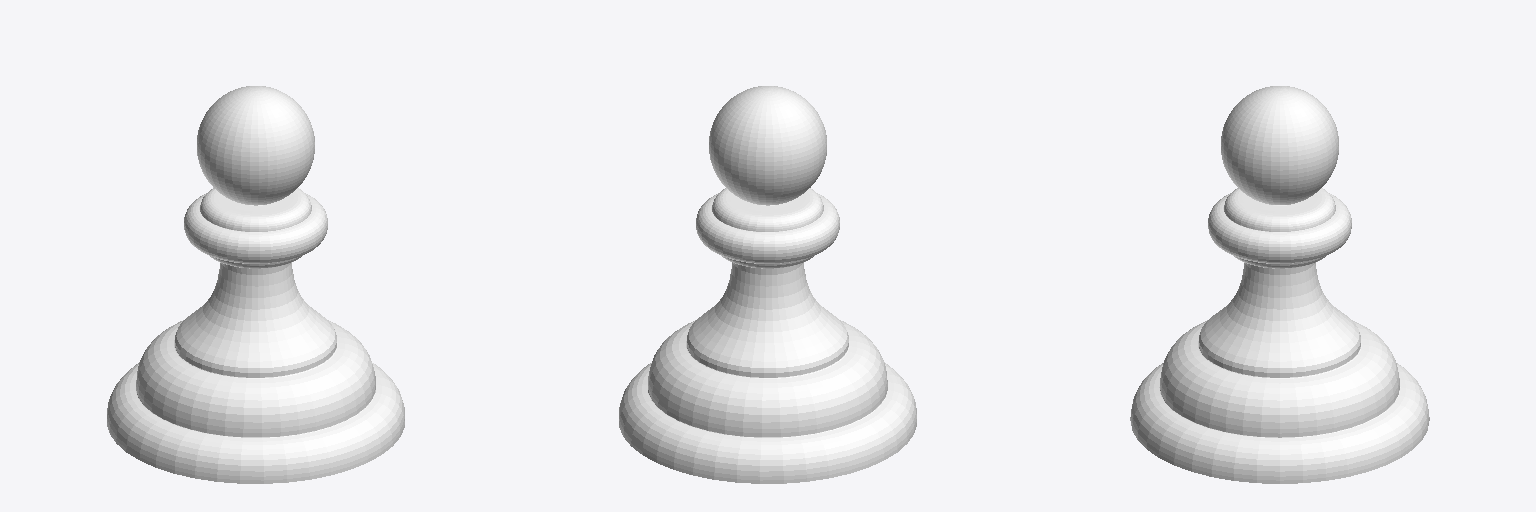
3 views of the same model, side by side, from view 1: azimuth 30°, elevation 25°; view 2: azimuth 150°, elevation 25°; view 3: azimuth 270°, elevation 25° (orthographic).
Parts seen in each view (by area): view 1: white_pawn1_Mesh.003; view 2: white_pawn1_Mesh.003; view 3: white_pawn1_Mesh.003.
Boxes of the visible parts, box(x1,y1,x2,y2) form: white_pawn1_Mesh.003: box(107, 86, 404, 483); white_pawn1_Mesh.003: box(619, 86, 916, 483); white_pawn1_Mesh.003: box(1130, 86, 1429, 483).
Size of the model in its own units: 0.1351 by 0.1645 by 0.1351.